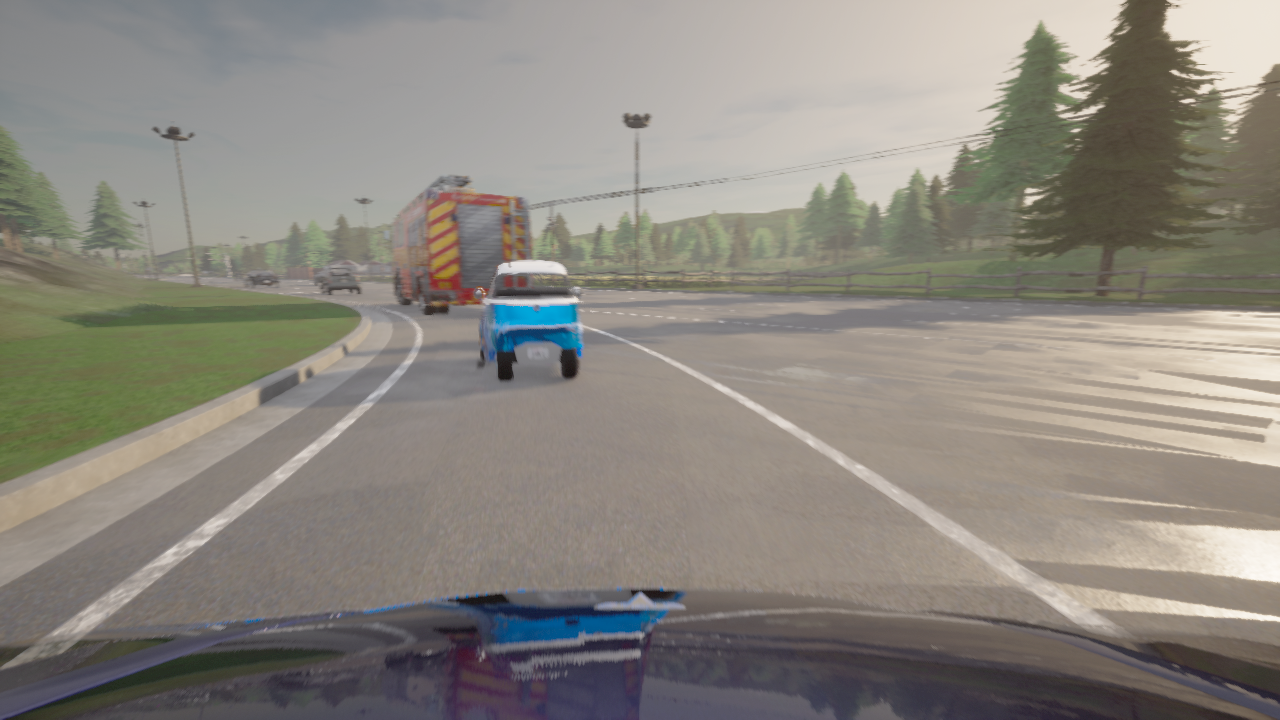cyclist: (0, 588, 1279, 719), (383, 173, 531, 315), (473, 261, 581, 382), (319, 267, 361, 295), (244, 269, 278, 288), (314, 271, 325, 284), (241, 277, 244, 282), (236, 277, 238, 282), (162, 273, 164, 274)
